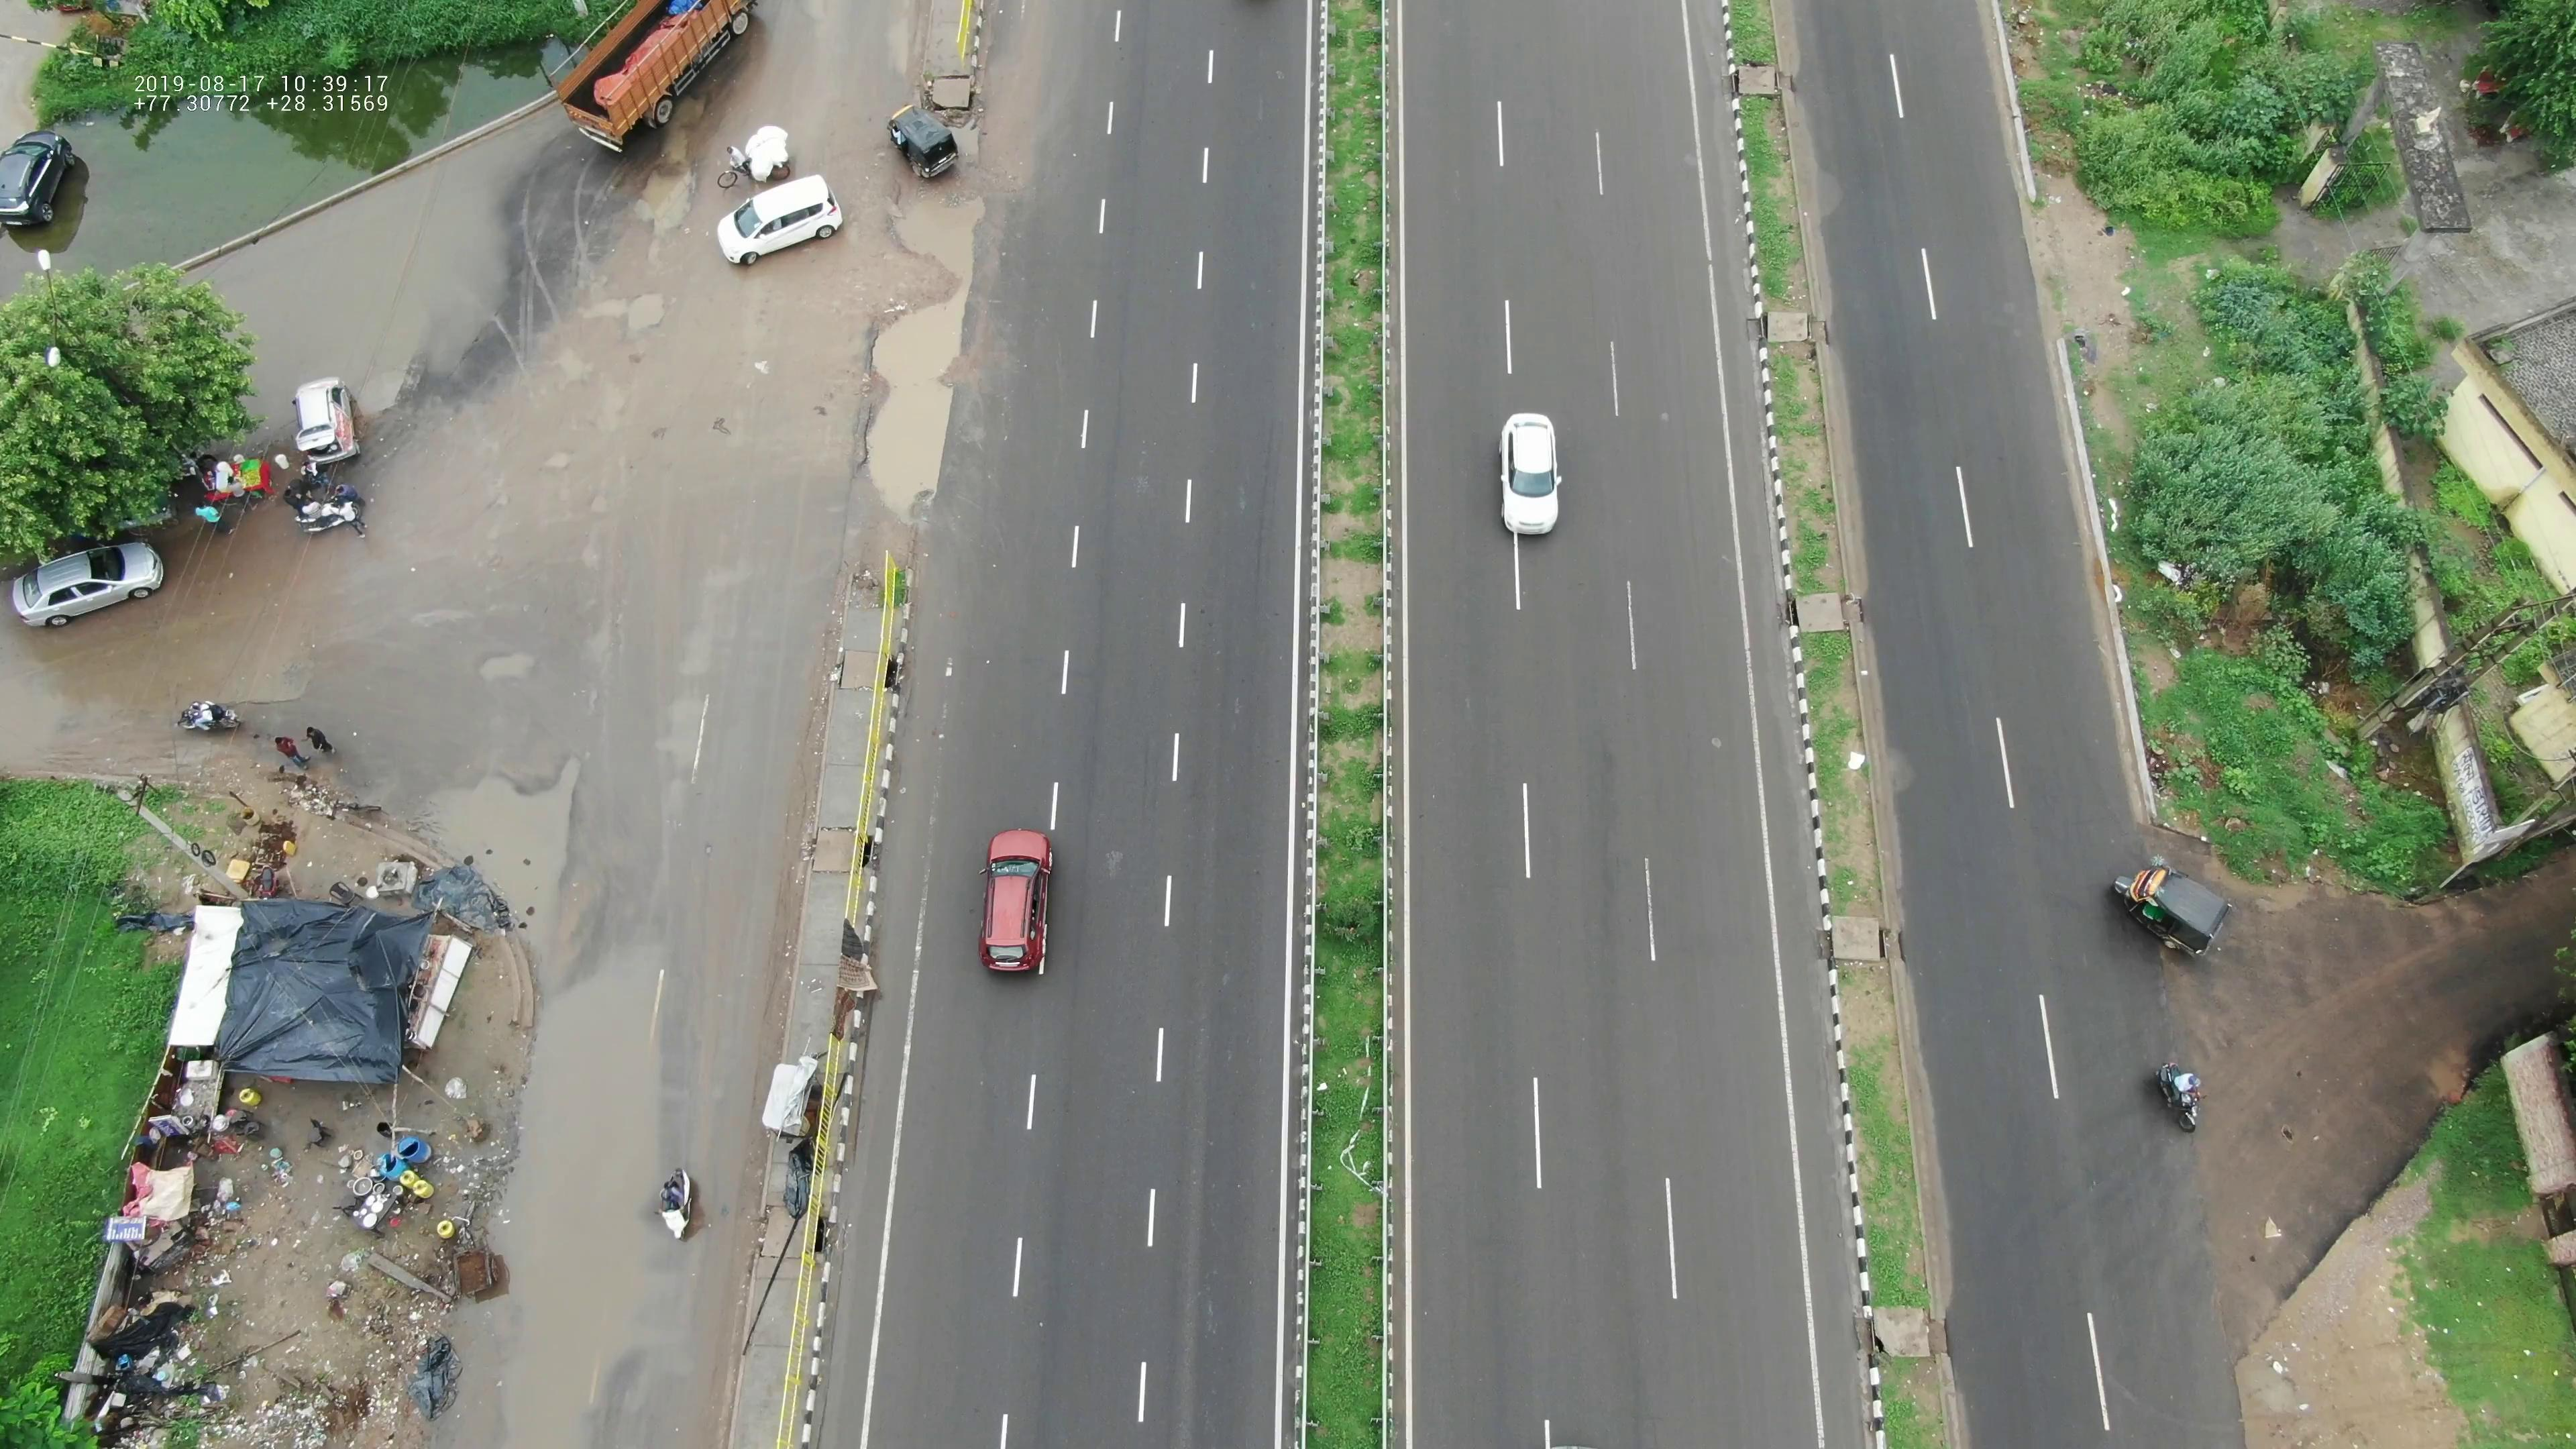Potholes: (830, 161, 991, 524), (405, 755, 596, 911), (536, 248, 686, 437), (640, 573, 732, 800), (410, 589, 577, 713), (612, 108, 736, 235), (529, 441, 644, 573)
Waterlogging: (444, 959, 706, 1421)
